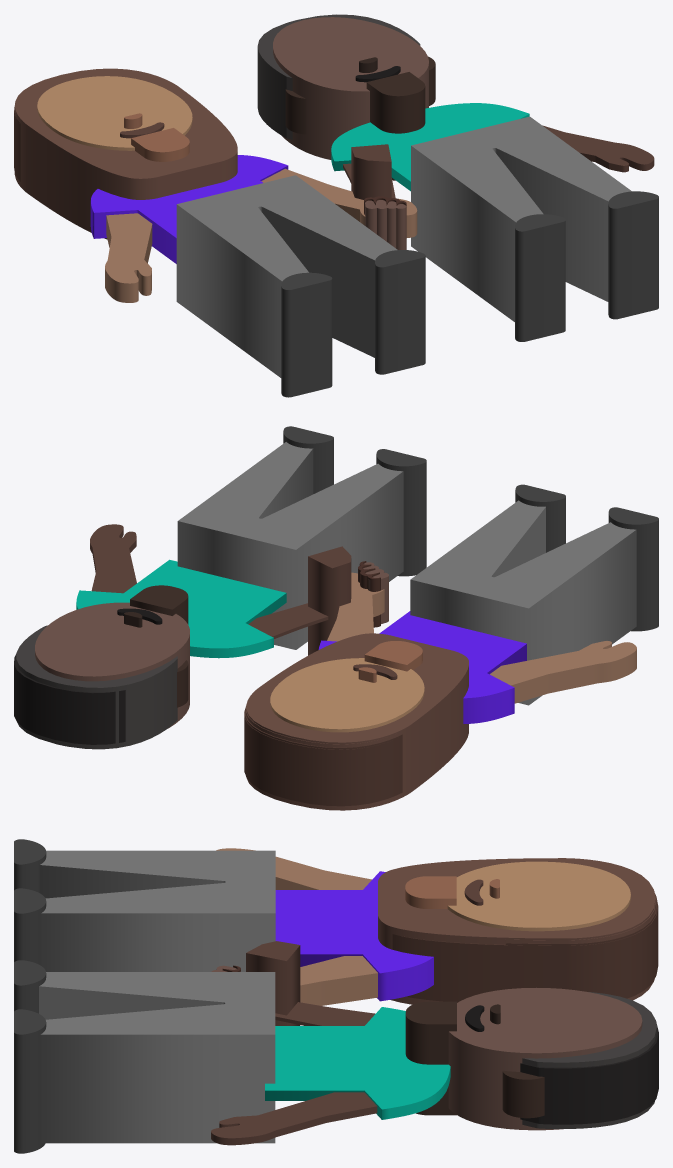
Rendered from emoji_u1f469_1f3fd_200d_1f91d_200d_1f468_1f3ff.glb.
3 renders of one model, top to bottom at view 1: azimuth 30°, elevation 25°; view 2: azimuth 150°, elevation 25°; view 3: azimuth 270°, elevation 25°, orthographic. The views are drawn at different scales.
Parts seen in each view (by area): view 1: emoji_u1f469_1f3fd_200d_1f91d_200d_1f468_1f3ff; view 2: emoji_u1f469_1f3fd_200d_1f91d_200d_1f468_1f3ff; view 3: emoji_u1f469_1f3fd_200d_1f91d_200d_1f468_1f3ff.
Part boxes in pixels (x1,y1,x2,y2): emoji_u1f469_1f3fd_200d_1f91d_200d_1f468_1f3ff: [14, 14, 658, 397]; emoji_u1f469_1f3fd_200d_1f91d_200d_1f468_1f3ff: [14, 426, 658, 810]; emoji_u1f469_1f3fd_200d_1f91d_200d_1f468_1f3ff: [14, 839, 658, 1153].
Bounding box in the file's own units: 0.0346 × 0.0068 × 0.0334.
